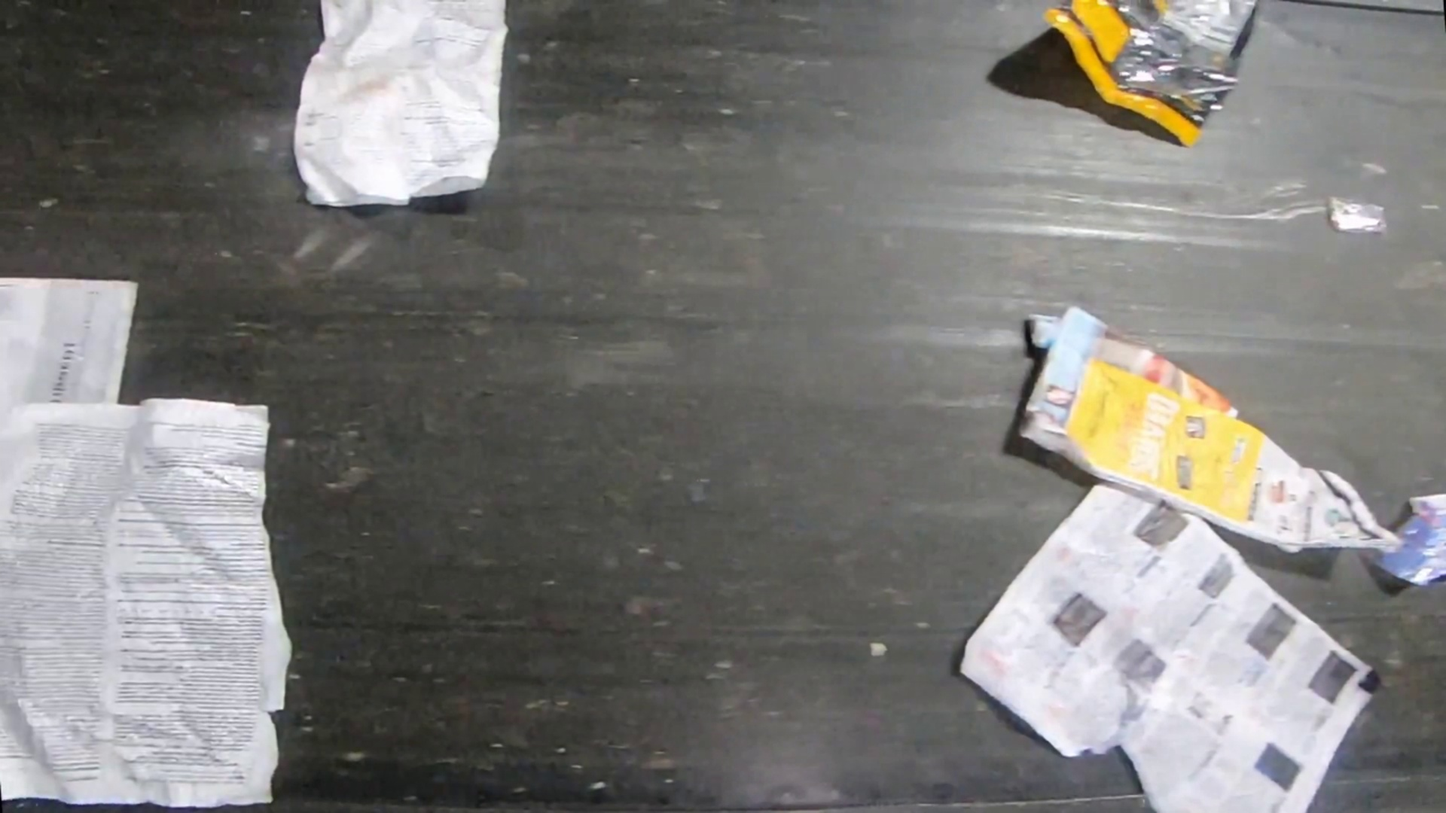cardboard: (1009, 303, 1406, 558)
plastic: (1040, 0, 1260, 149), (1356, 493, 1446, 590)
